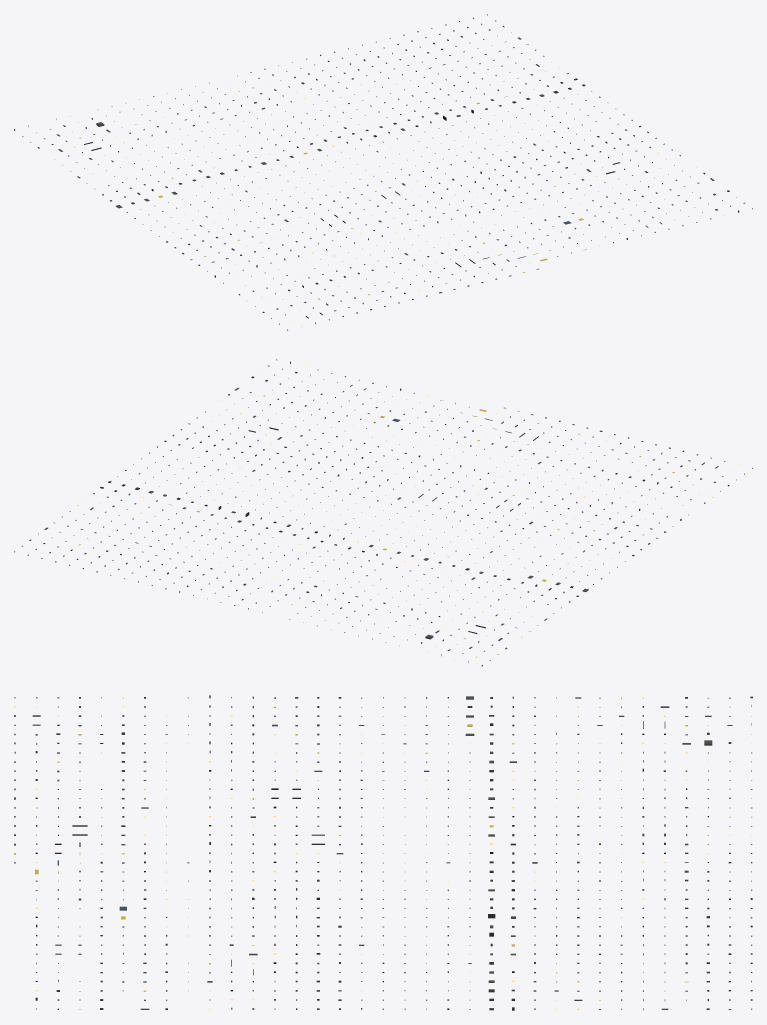
Rendered from detail-kit-capital.glb.
3 renders of one model, top to bottom at view 1: azimuth 30°, elevation 25°; view 2: azimuth 150°, elevation 25°; view 3: azimuth 270°, elevation 25°, orthographic. The views are drawn at different scales.
Size of the model in its own units: 82.39 by 0.4606 by 82.06.
